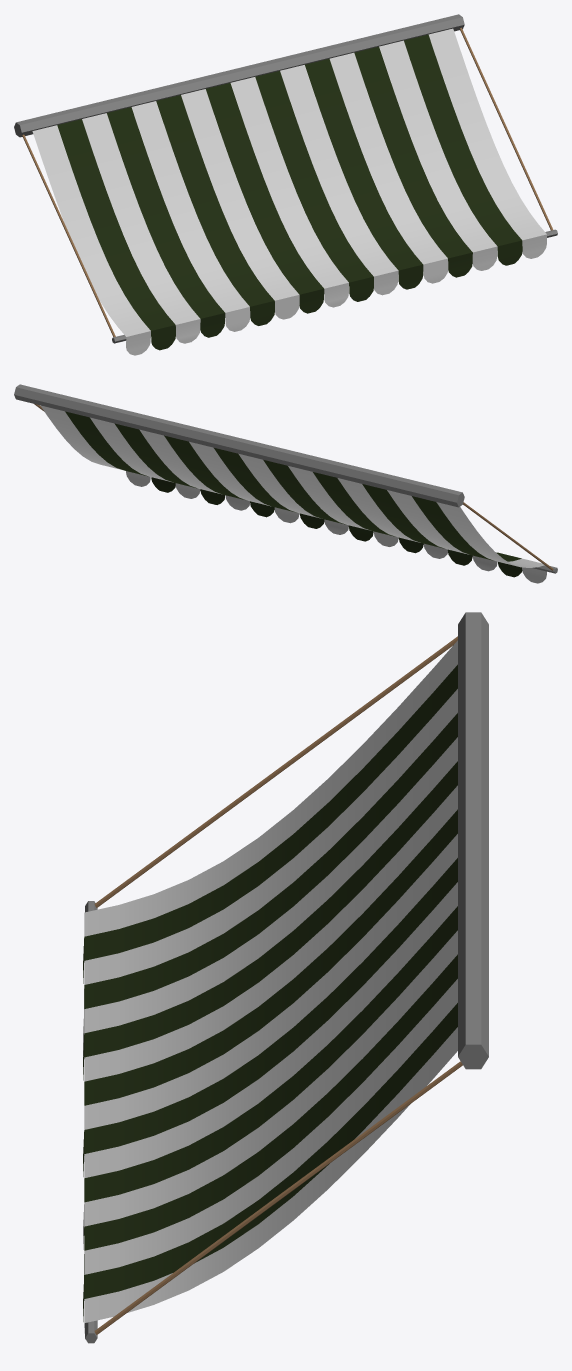
File: Awning.fbx
3 renders of one model, top to bottom at view 1: azimuth 30°, elevation 25°; view 2: azimuth 150°, elevation 25°; view 3: azimuth 270°, elevation 25°, orthographic. The views are drawn at different scales.
Visible parts, largest first — view 1: Awning; view 2: Awning; view 3: Awning.
Part boxes in pixels (x1,y1,x2,y2): Awning: [14, 14, 557, 355]; Awning: [14, 384, 557, 583]; Awning: [83, 612, 488, 1343].
Size of the model in its own units: 800 by 286 by 318.
